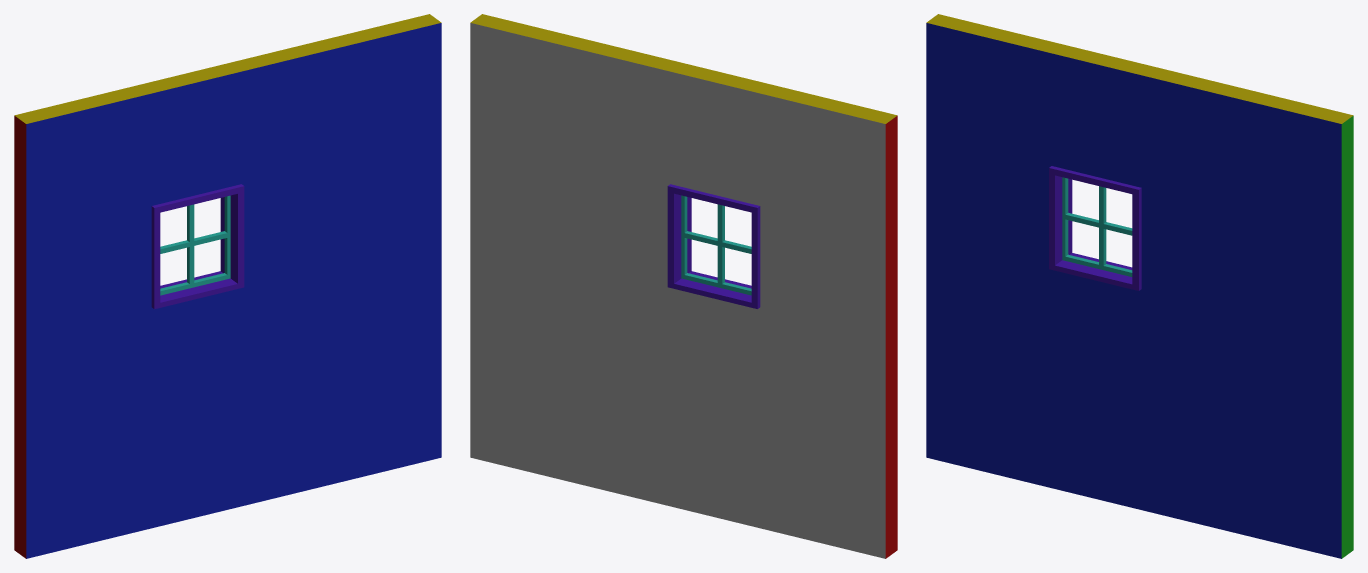
Rendered from Wall_Window_04c.fbx.
3 renders of one model, left to right at view 1: azimuth 30°, elevation 25°; view 2: azimuth 150°, elevation 25°; view 3: azimuth 330°, elevation 25°, orthographic.
Parts seen in each view (by area): view 1: Wall_Window_04c; view 2: Wall_Window_04c; view 3: Wall_Window_04c.
Boxes of the visible parts, bbox=[...] form: Wall_Window_04c: bbox=[14, 14, 441, 558]; Wall_Window_04c: bbox=[470, 14, 897, 558]; Wall_Window_04c: bbox=[926, 14, 1353, 558].
Size of the model in its own units: 3 by 0.2175 by 3.
